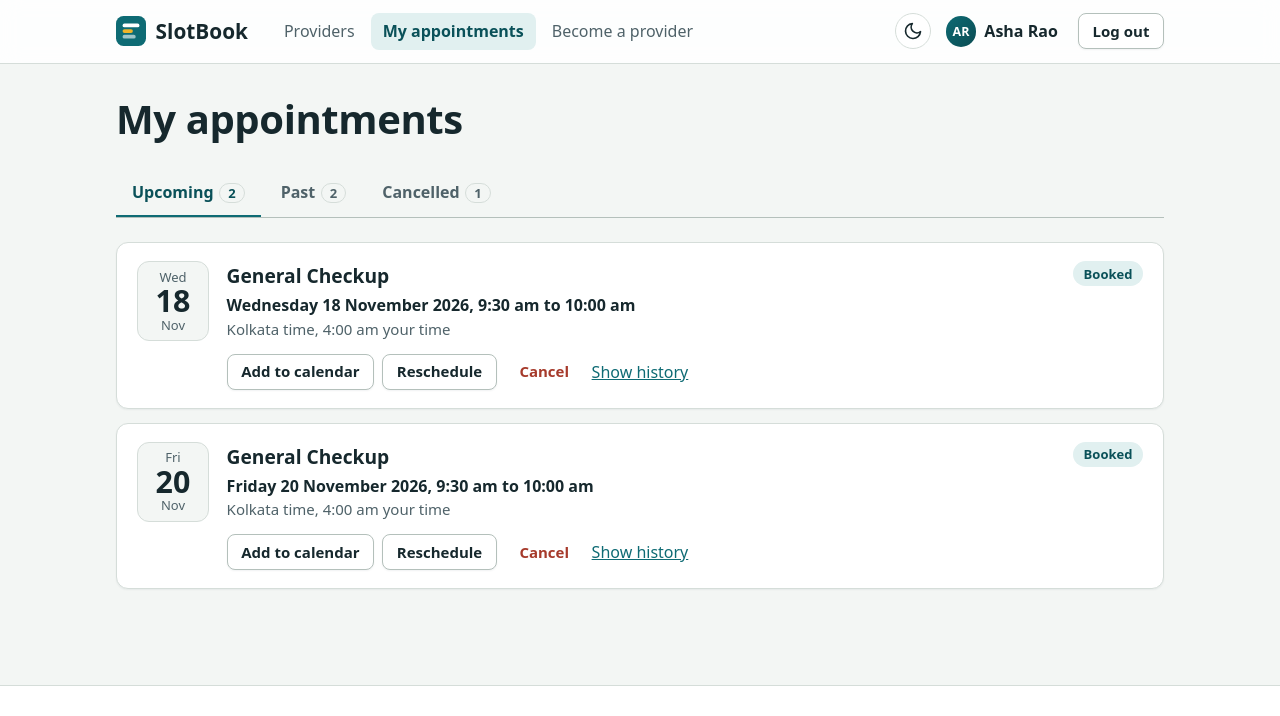
Test case: my appointments › sorts appointments into upcoming, past and cancelled, soonest first
Expected: the tab "Upcoming2" is shown, [116,170,261,218]
Expected: the tab "Cancelled1" is shown, [366,170,507,218]
Click the tab "Past2" at (313, 194), box [265,170,362,218]
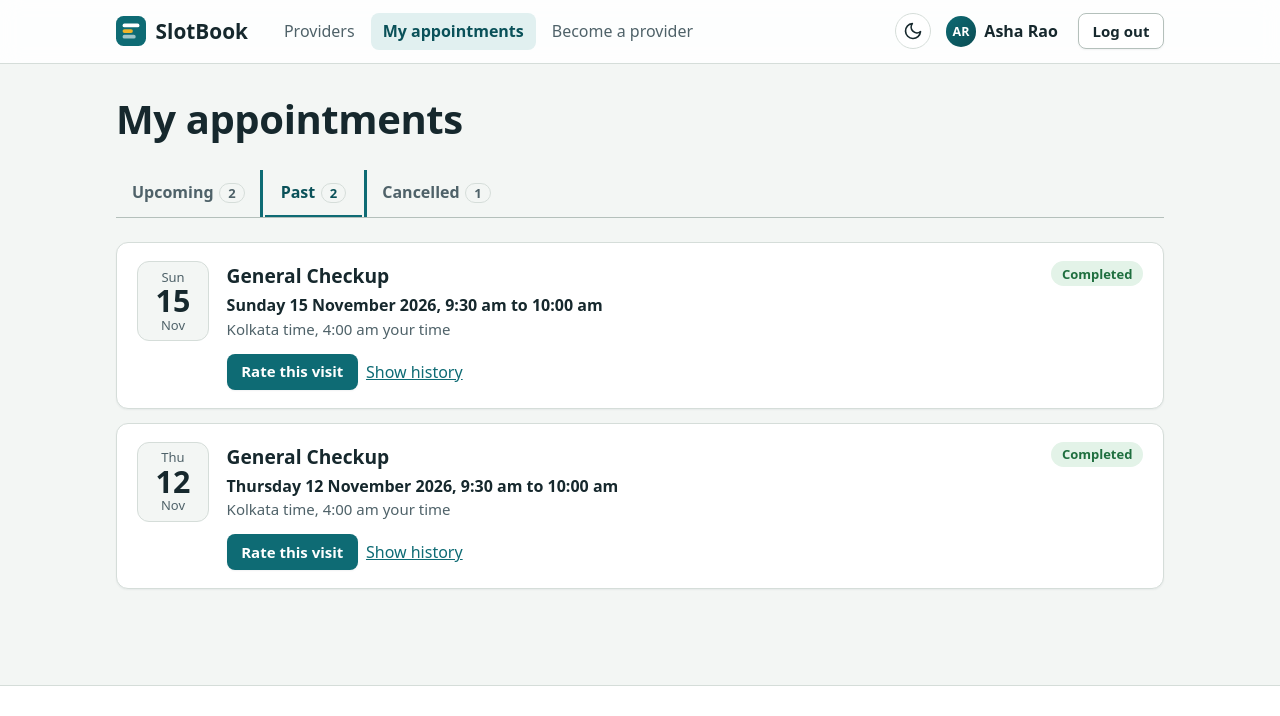
Result: the link "Reschedule" is gone
